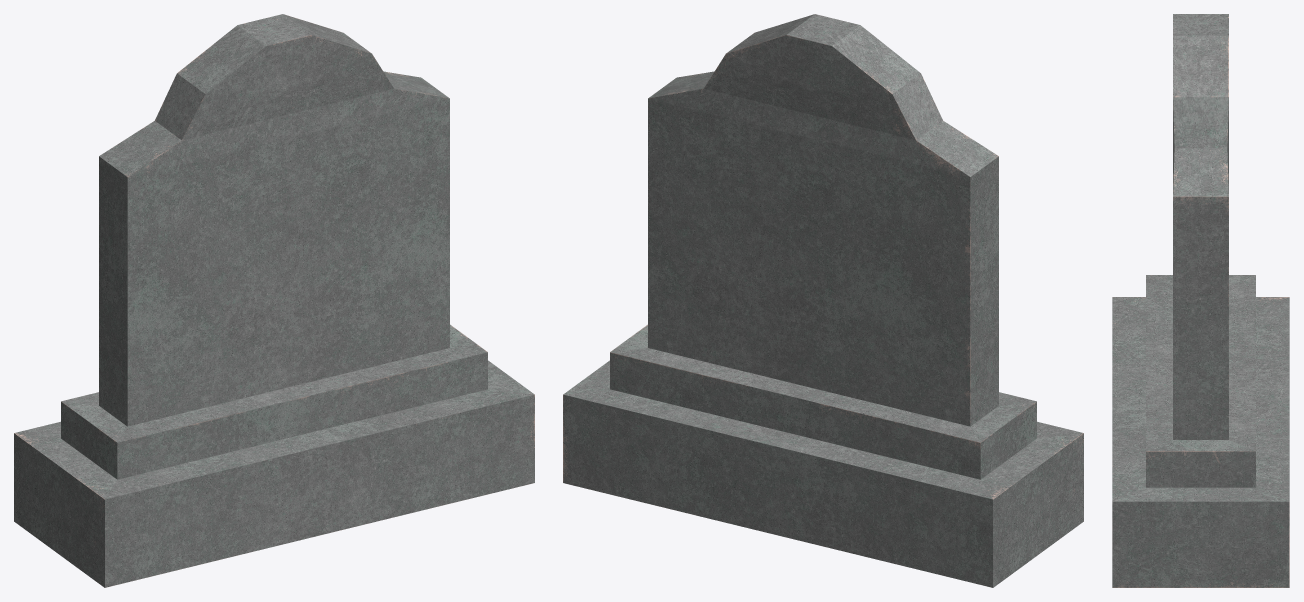
Rendered from Lapida2.fbx.
3 renders of one model, left to right at view 1: azimuth 30°, elevation 25°; view 2: azimuth 150°, elevation 25°; view 3: azimuth 270°, elevation 25°, orthographic. The views are drawn at different scales.
Visible parts, largest first — view 1: Lapida2; view 2: Lapida2; view 3: Lapida2.
Boxes of the visible parts, box(x1,y1,x2,y2) form: Lapida2: box(14, 14, 534, 587); Lapida2: box(563, 14, 1083, 587); Lapida2: box(1112, 14, 1289, 587).
Bounding box in the file's own units: 204 × 214 × 74.51.
1 material, 1 textured.
